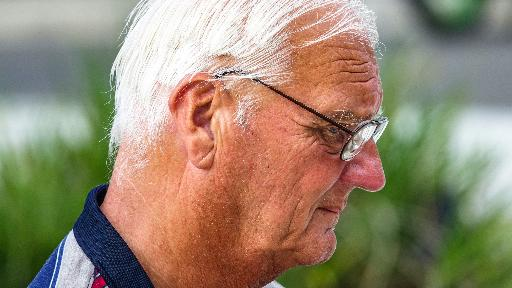right_eye: (325, 123, 341, 134)
right_lip_corner: (314, 205, 323, 213)
